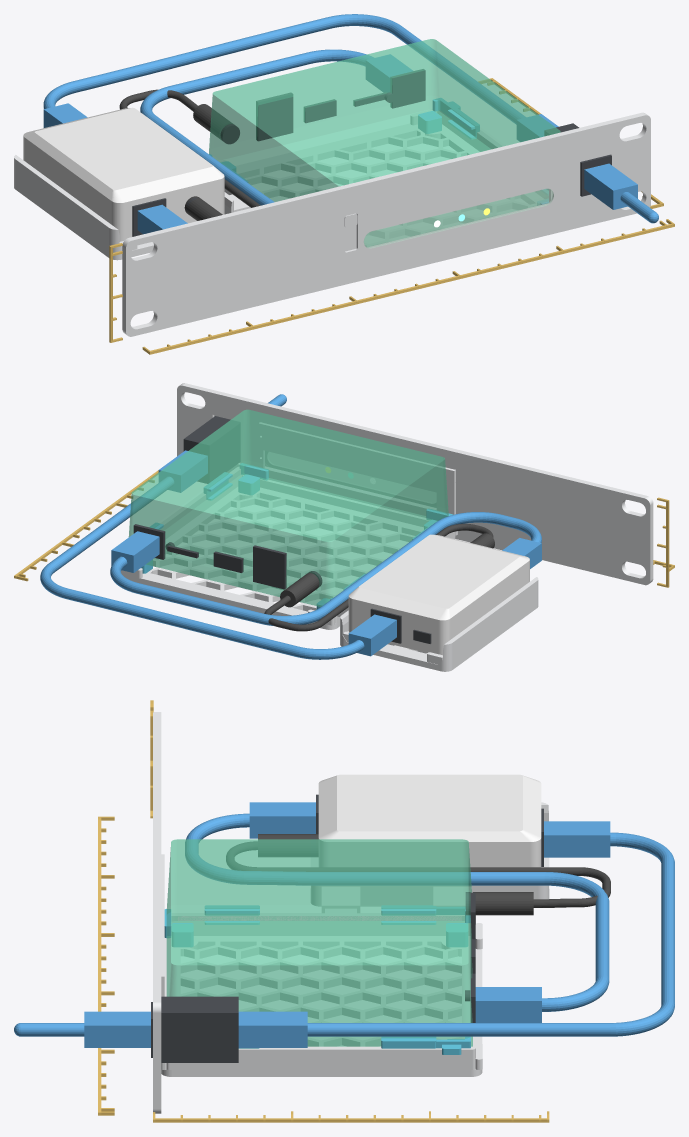
Rendered from home-assistant-green-rack-front_ethernet_far_right.glb.
3 views of the same model, one above another, from view 1: azimuth 30°, elevation 25°; view 2: azimuth 150°, elevation 25°; view 3: azimuth 270°, elevation 25° (orthographic). The views are drawn at different scales.
Parts seen in each view (by area): view 1: White rack mount, Home Assistant Green, TP-Link TL-PD30G-M2, Front keystone → TP-Link PoE jumper, Green tray — standard, Internal Ethernet cable, Home Assistant Green connector faces, 10 mm dimension rulers, LED window insert, TP-Link cradle side walls, DC cable, Green retention — segmented rails + rear latch (+3 smaller); view 2: Home Assistant Green, White rack mount, Green tray — standard, TP-Link TL-PD30G-M2, Front keystone → TP-Link PoE jumper, Internal Ethernet cable, LED shutter retainer, TP-Link cradle side walls, Home Assistant Green connector faces, Front keystone coupler, LED window insert, DC cable (+4 smaller); view 3: Home Assistant Green, Green tray — standard, TP-Link TL-PD30G-M2, Front keystone → TP-Link PoE jumper, Internal Ethernet cable, DC cable, Front keystone coupler, White rack mount, Green retention — segmented rails + rear latch, 10 mm dimension rulers, TP-Link cradle side walls, Home Assistant Green connector faces (+1 smaller).
Boxes of the visible parts, x1,y1,x2,y2 form: White rack mount: [122, 112, 650, 336]; Home Assistant Green: [209, 39, 560, 246]; TP-Link TL-PD30G-M2: [23, 107, 224, 241]; Front keystone → TP-Link PoE jumper: [43, 14, 658, 223]; Green tray — standard: [219, 109, 502, 197]; Internal Ethernet cable: [137, 49, 412, 234]; Home Assistant Green connector faces: [220, 69, 425, 144]; 10 mm dimension rulers: [109, 78, 674, 354]; LED window insert: [363, 188, 553, 248]; TP-Link cradle side walls: [14, 155, 233, 252]; DC cable: [119, 89, 260, 220]; Green retention — segmented rails + rear latch: [209, 98, 548, 204]; Home Assistant Green: [128, 409, 448, 606]; White rack mount: [177, 383, 653, 616]; Green tray — standard: [121, 467, 457, 629]; TP-Link TL-PD30G-M2: [348, 534, 529, 655]; Front keystone → TP-Link PoE jumper: [40, 394, 396, 659]; Internal Ethernet cable: [110, 512, 541, 625]; LED shutter retainer: [259, 422, 455, 514]; TP-Link cradle side walls: [340, 577, 538, 665]; Home Assistant Green connector faces: [133, 524, 322, 589]; Front keystone coupler: [183, 416, 240, 483]; LED window insert: [265, 451, 435, 506]; DC cable: [264, 523, 494, 631]; Home Assistant Green: [166, 839, 472, 1046]; Green tray — standard: [161, 913, 482, 1076]; TP-Link TL-PD30G-M2: [318, 774, 541, 867]; Front keystone → TP-Link PoE jumper: [14, 821, 674, 1047]; Internal Ethernet cable: [185, 802, 609, 1022]; DC cable: [226, 834, 610, 915]; Front keystone coupler: [151, 996, 238, 1062]; White rack mount: [153, 712, 471, 1113]; Green retention — segmented rails + rear latch: [164, 905, 470, 1054]; 10 mm dimension rulers: [98, 700, 549, 1122]; TP-Link cradle side walls: [311, 802, 549, 899]; Home Assistant Green connector faces: [465, 892, 475, 1022].
Size of what is drawn, in the model's own units: 268 by 44.45 by 240.
